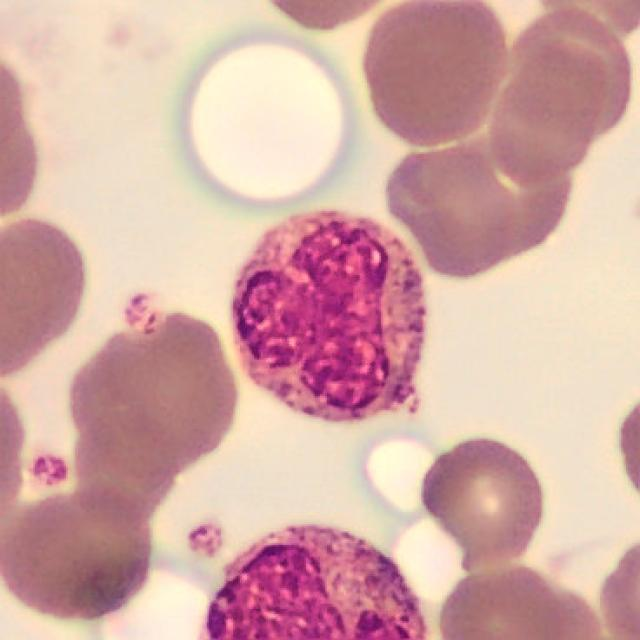Neutrofilo segmentado: (233, 211, 424, 419)
